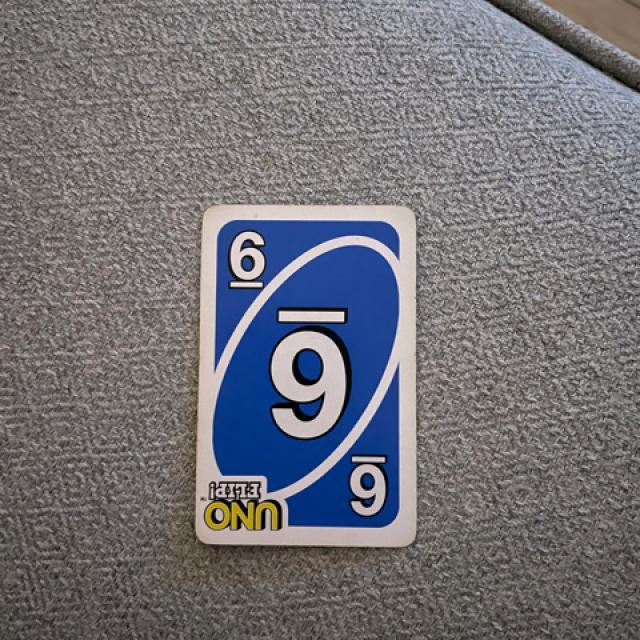lblue-6: (214, 216, 286, 298)
